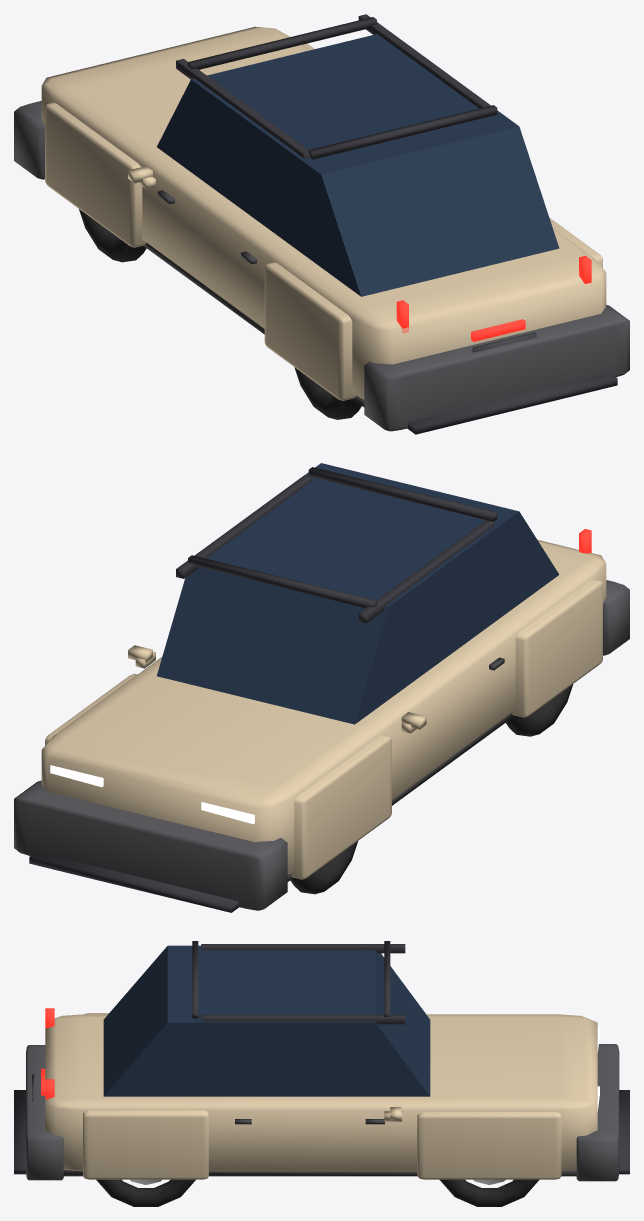
File: suv.glb
3 renders of one model, top to bottom at view 1: azimuth 30°, elevation 25°; view 2: azimuth 150°, elevation 25°; view 3: azimuth 270°, elevation 25°, orthographic. The views are drawn at different scales.
Parts seen in each view (by area): view 1: GlassCanopy, Body, RearBumper, Fender-1F, Fender-1R, SkidRear, RackCross2, RackCross1, FrontBumper, RoofRail.001, RoofRail, Tire3 (+3 smaller); view 2: GlassCanopy, Body, FrontBumper, Fender-1F, Fender-1R, SkidFront, RackCross2, RackCross1, RearBumper, RoofRail.001, RoofRail, Tire3 (+2 smaller); view 3: GlassCanopy, Body, Fender+1F, Fender+1R, FrontBumper, RearBumper, Tire2, Tire0, RoofRail, UnderBody, RoofRail.001, SkidRear (+3 smaller).
Part boxes in pixels (left/top/right/bottom): GlassCanopy: left=157, top=34, right=559, bottom=296; Body: left=41, top=26, right=606, bottom=399; RearBumper: left=364, top=305, right=629, bottom=431; Fender-1F: left=45, top=102, right=146, bottom=247; Fender-1R: left=264, top=262, right=355, bottom=400; SkidRear: left=407, top=373, right=617, bottom=434; RackCross2: left=308, top=105, right=497, bottom=159; RackCross1: left=188, top=17, right=376, bottom=69; FrontBumper: left=14, top=101, right=44, bottom=179; RoofRail.001: left=176, top=59, right=308, bottom=158; RoofRail: left=358, top=14, right=490, bottom=108; Tire3: left=294, top=367, right=361, bottom=419; GlassCanopy: left=157, top=463, right=559, bottom=724; Body: left=41, top=540, right=606, bottom=874; FrontBumper: left=14, top=780, right=287, bottom=910; Fender-1F: left=290, top=734, right=391, bottom=879; Fender-1R: left=512, top=579, right=602, bottom=717; SkidFront: left=29, top=852, right=238, bottom=912; RackCross2: left=308, top=467, right=497, bottom=521; RackCross1: left=188, top=555, right=376, bottom=607; RearBumper: left=603, top=580, right=629, bottom=655; RoofRail.001: left=358, top=520, right=494, bottom=623; RoofRail: left=176, top=475, right=311, bottom=578; Tire3: left=506, top=684, right=573, bottom=736; GlassCanopy: left=103, top=945, right=430, bottom=1096; Body: left=45, top=1014, right=597, bottom=1171; Fender+1F: left=417, top=1112, right=561, bottom=1179; Fender+1R: left=83, top=1110, right=208, bottom=1179; FrontBumper: left=576, top=1044, right=619, bottom=1181; RearBumper: left=26, top=1045, right=63, bottom=1180; Tire2: left=96, top=1179, right=195, bottom=1206; Tire0: left=439, top=1179, right=539, bottom=1206; RoofRail: left=201, top=1015, right=405, bottom=1024; UnderBody: left=63, top=1170, right=576, bottom=1176; RoofRail.001: left=201, top=944, right=405, bottom=953; SkidRear: left=14, top=1090, right=25, bottom=1174.
Size of the model in its own units: 2.24 by 1.74 by 5.13.
